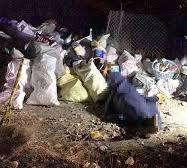Garbage: (153, 57, 177, 86), (175, 74, 187, 105), (93, 131, 108, 141)
